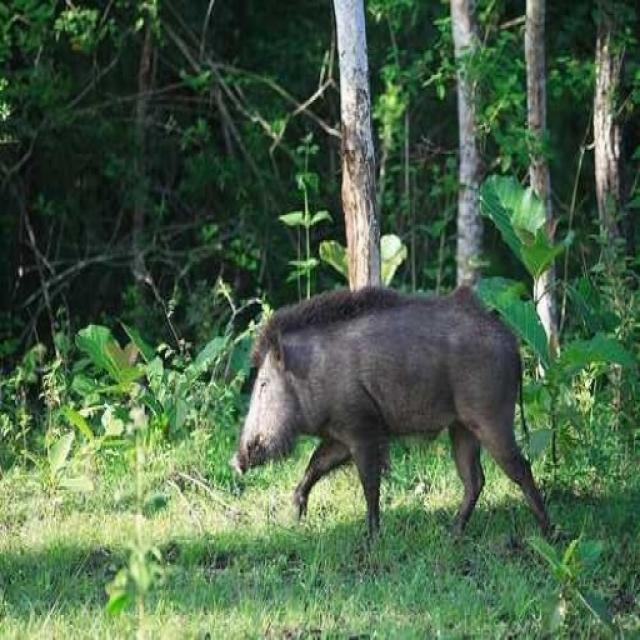pig: (176, 270, 574, 560)
